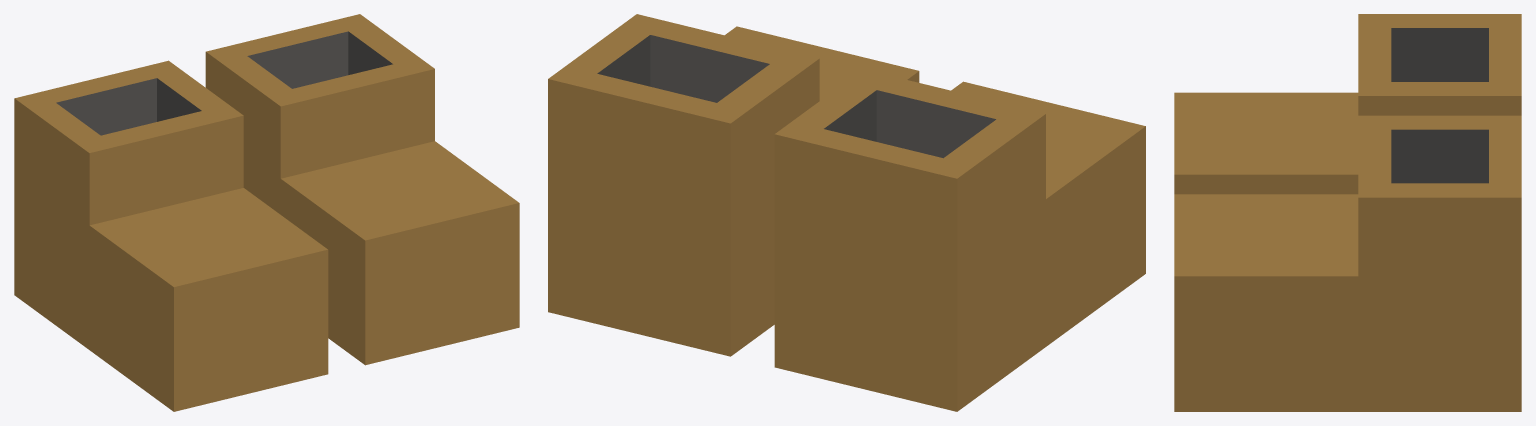
Rendered from ShoeBoots.glb.
3 renders of one model, left to right at view 1: azimuth 30°, elevation 25°; view 2: azimuth 150°, elevation 25°; view 3: azimuth 270°, elevation 25°, orthographic. The views are drawn at different scales.
Visible parts, largest first — view 1: SI_Prop_Shoe_Boots_01; view 2: SI_Prop_Shoe_Boots_01; view 3: SI_Prop_Shoe_Boots_01.
Boxes of the visible parts, x1,y1,x2,y2 form: SI_Prop_Shoe_Boots_01: (14, 14, 519, 411); SI_Prop_Shoe_Boots_01: (548, 14, 1145, 411); SI_Prop_Shoe_Boots_01: (1174, 14, 1521, 411).
Bounding box in the file's own units: 0.00458 × 0.0025 × 0.00366.
1 material, 1 textured.
